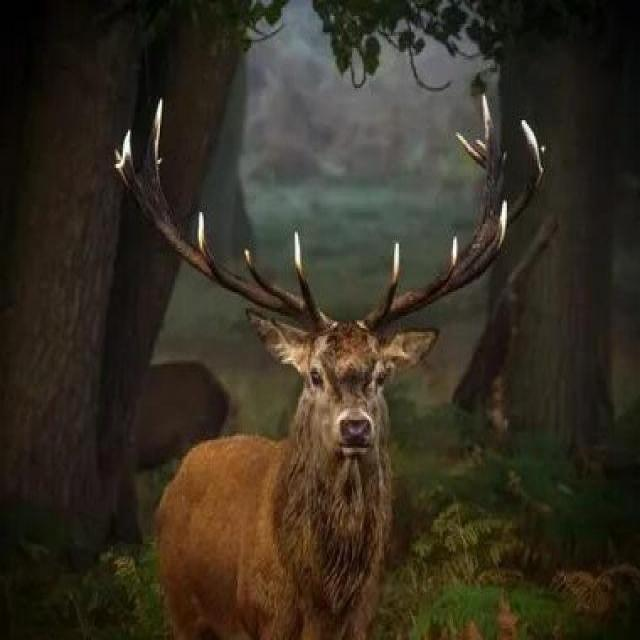deer: (73, 78, 522, 640)
